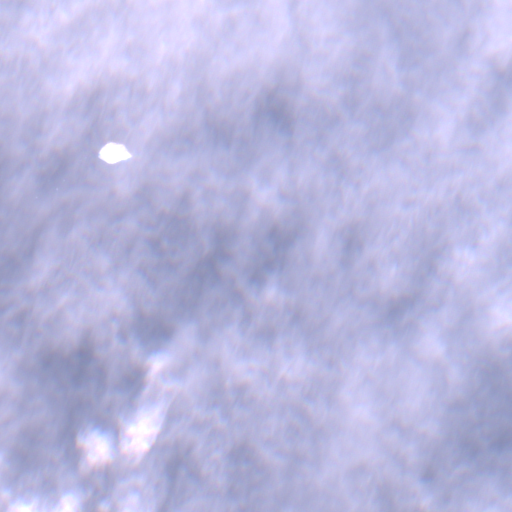Iceberg: (98, 143, 130, 163)
